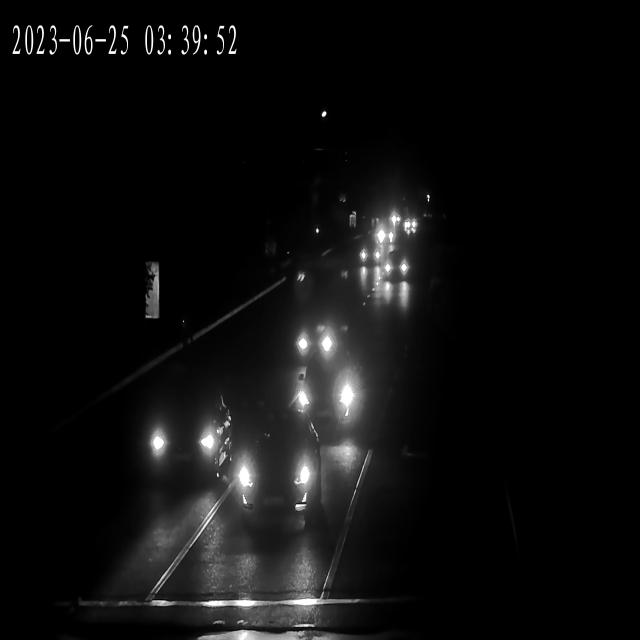Car: (241, 412, 319, 532), (149, 388, 228, 486), (304, 348, 358, 442), (290, 296, 347, 369), (384, 248, 408, 288), (358, 236, 381, 271), (376, 222, 397, 251), (404, 216, 422, 240), (388, 208, 403, 226)
